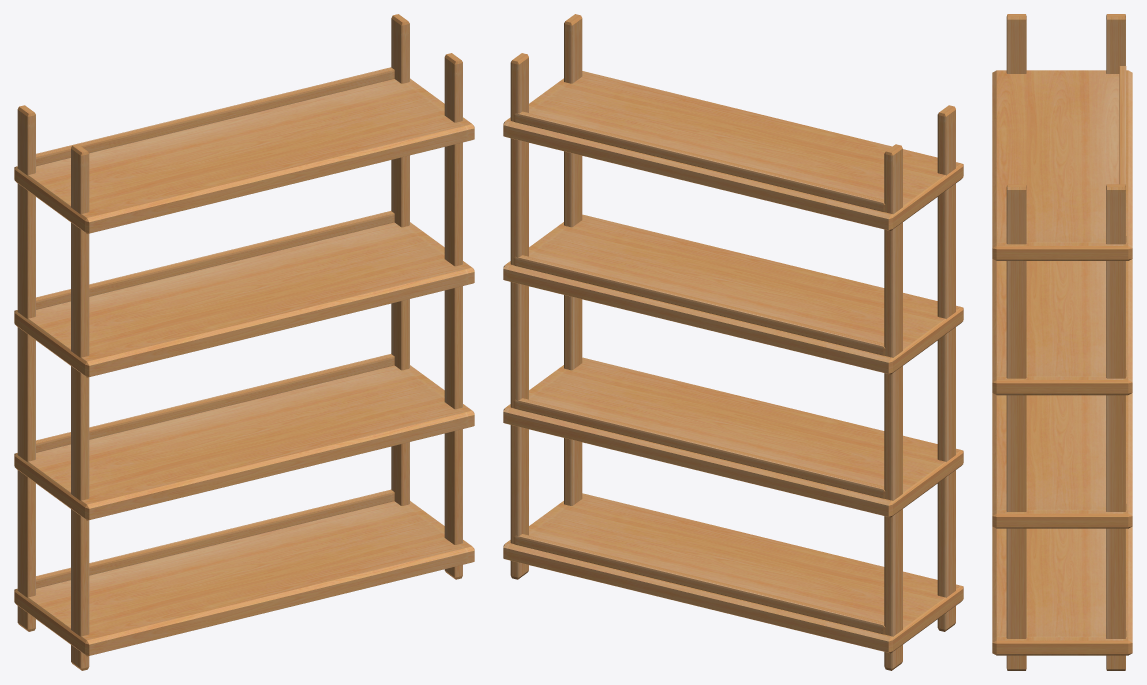
File: aws_ShoeRack_01_visual.DAE
The picture shows the model from 3 angles, left to right: view 1: azimuth 30°, elevation 25°; view 2: azimuth 150°, elevation 25°; view 3: azimuth 270°, elevation 25°; orthographic projection. The views are drawn at different scales.
Visible parts, largest first — view 1: aws_ShoeRack_01_visual; view 2: aws_ShoeRack_01_visual; view 3: aws_ShoeRack_01_visual.
Part boxes in pixels (x1=…): aws_ShoeRack_01_visual: x1=14, y1=14, x2=474, y2=670; aws_ShoeRack_01_visual: x1=503, y1=14, x2=963, y2=670; aws_ShoeRack_01_visual: x1=992, y1=14, x2=1132, y2=670.
Size of the model in its own units: 89.3 by 29.88 by 114.
1 material, 1 textured.
